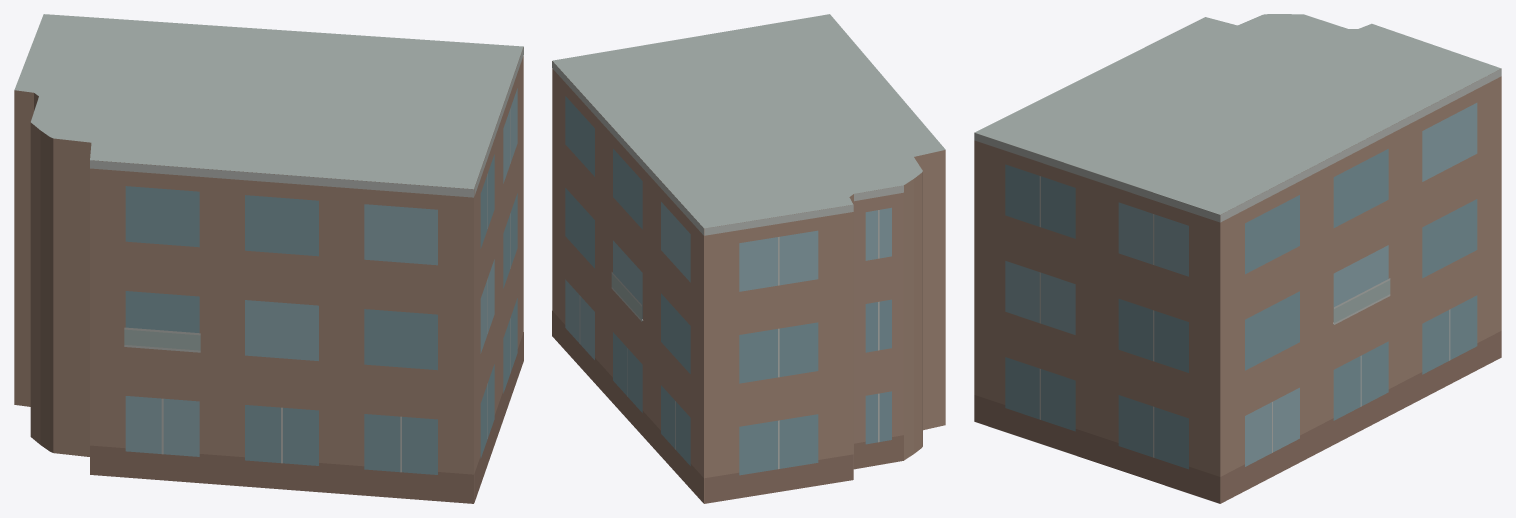
File: survey-upis-32670263.glb
3 renders of one model, left to right at view 1: azimuth 30°, elevation 25°; view 2: azimuth 150°, elevation 25°; view 3: azimuth 270°, elevation 25°, orthographic. The views are drawn at different scales.
Visible parts, largest first — view 1: survey-upis-32670263.tmp; view 2: survey-upis-32670263.tmp; view 3: survey-upis-32670263.tmp.
Boxes of the visible parts, x1,y1,x2,y2 form: survey-upis-32670263.tmp: (14,14,523,503); survey-upis-32670263.tmp: (552,14,945,503); survey-upis-32670263.tmp: (974,14,1501,503).
Size of the model in its own units: 13.65 by 9.15 by 15.14.
